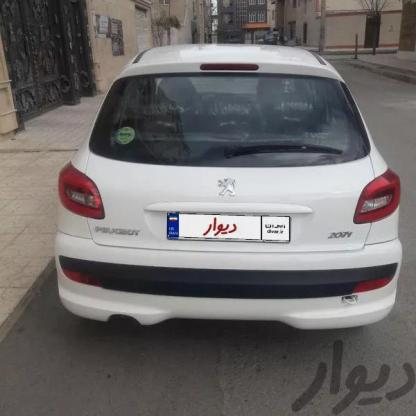Car: (32, 39, 416, 340)
